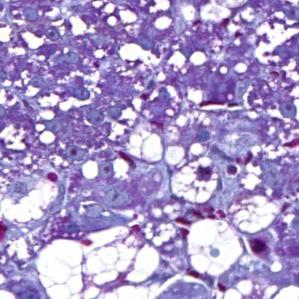ballooning: (35, 223, 160, 296), (224, 192, 282, 237), (170, 156, 220, 205)
